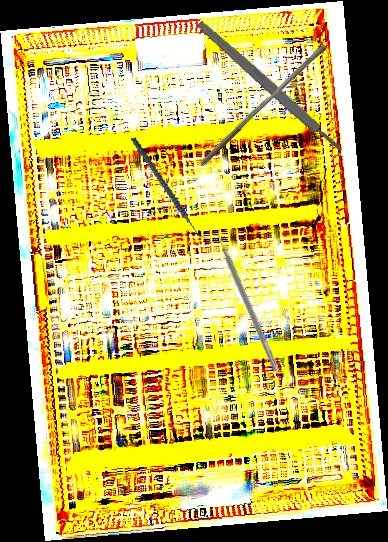Chopper: (130, 125, 211, 252)
Pusher: (197, 38, 329, 173)
Scalpel Handle: (195, 18, 345, 156)
Spatula Surgical: (211, 226, 286, 373)
